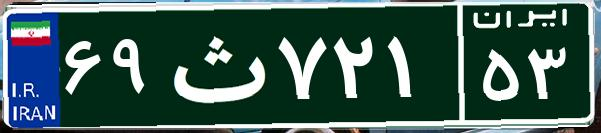1: (385, 28, 445, 110)
2: (330, 28, 385, 110)
3: (525, 38, 570, 115)
5: (475, 38, 525, 113)
6: (57, 26, 110, 107)
7: (273, 28, 330, 110)
9: (110, 28, 158, 105)
ث: (158, 15, 273, 115)
